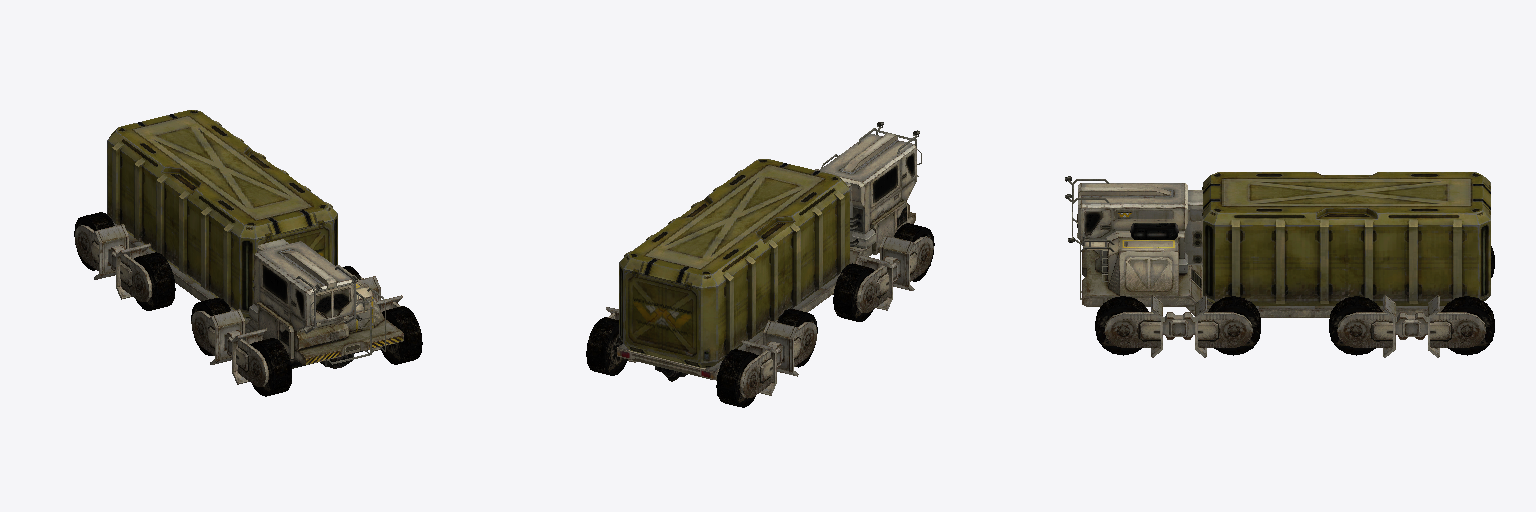
3 renders of one model, left to right at view 1: azimuth 30°, elevation 25°; view 2: azimuth 150°, elevation 25°; view 3: azimuth 270°, elevation 25°, orthographic.
Size of the model in its own units: 4.28 by 3.15 by 9.69.
Materials: 2 (2 with a texture image).